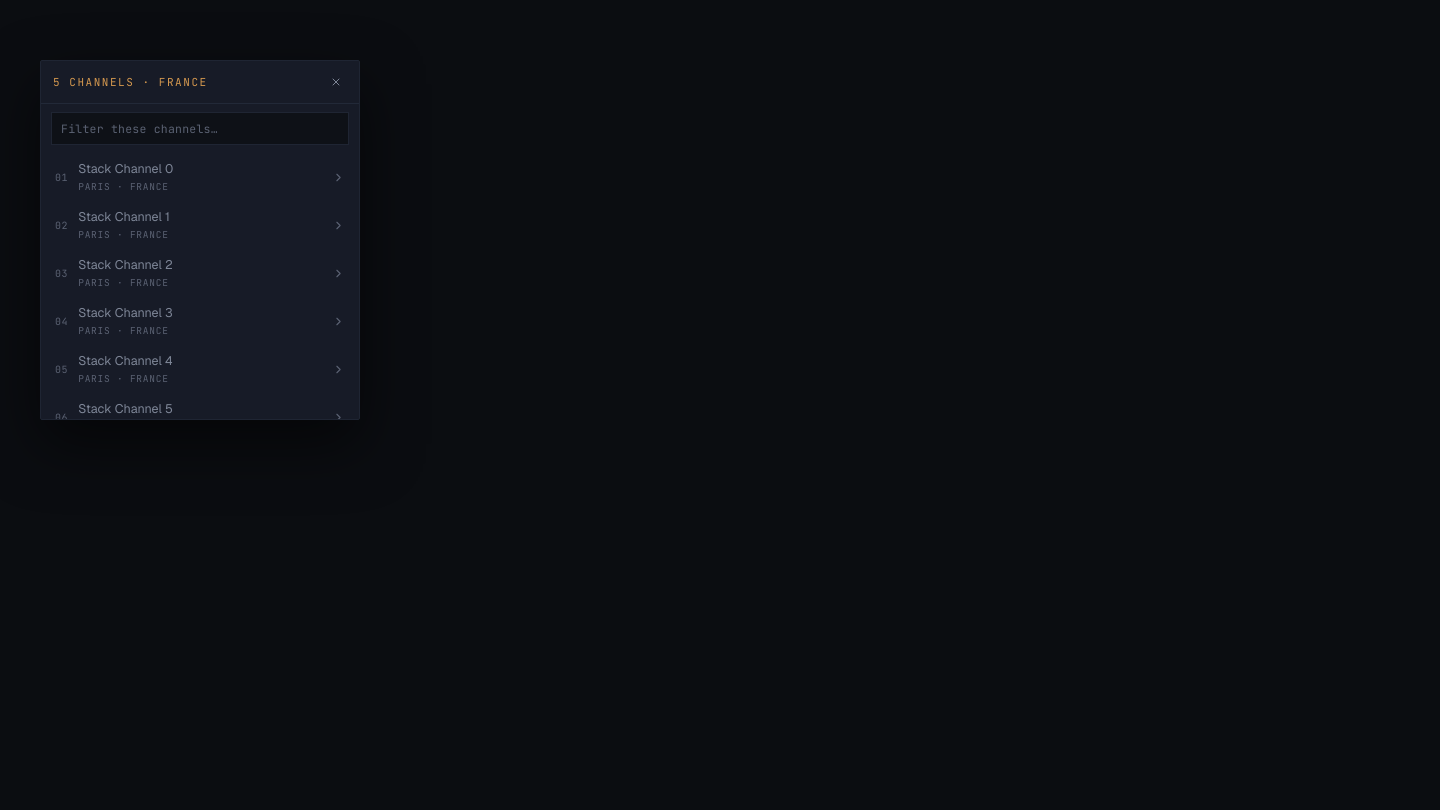
Scenario: ClusterPicker › offers a filter once the crowd is worth narrowing
Type "channel 1" into the search field with test id "input-cluster-filter" at x=200, y=129, box 51,112 -> 349,145
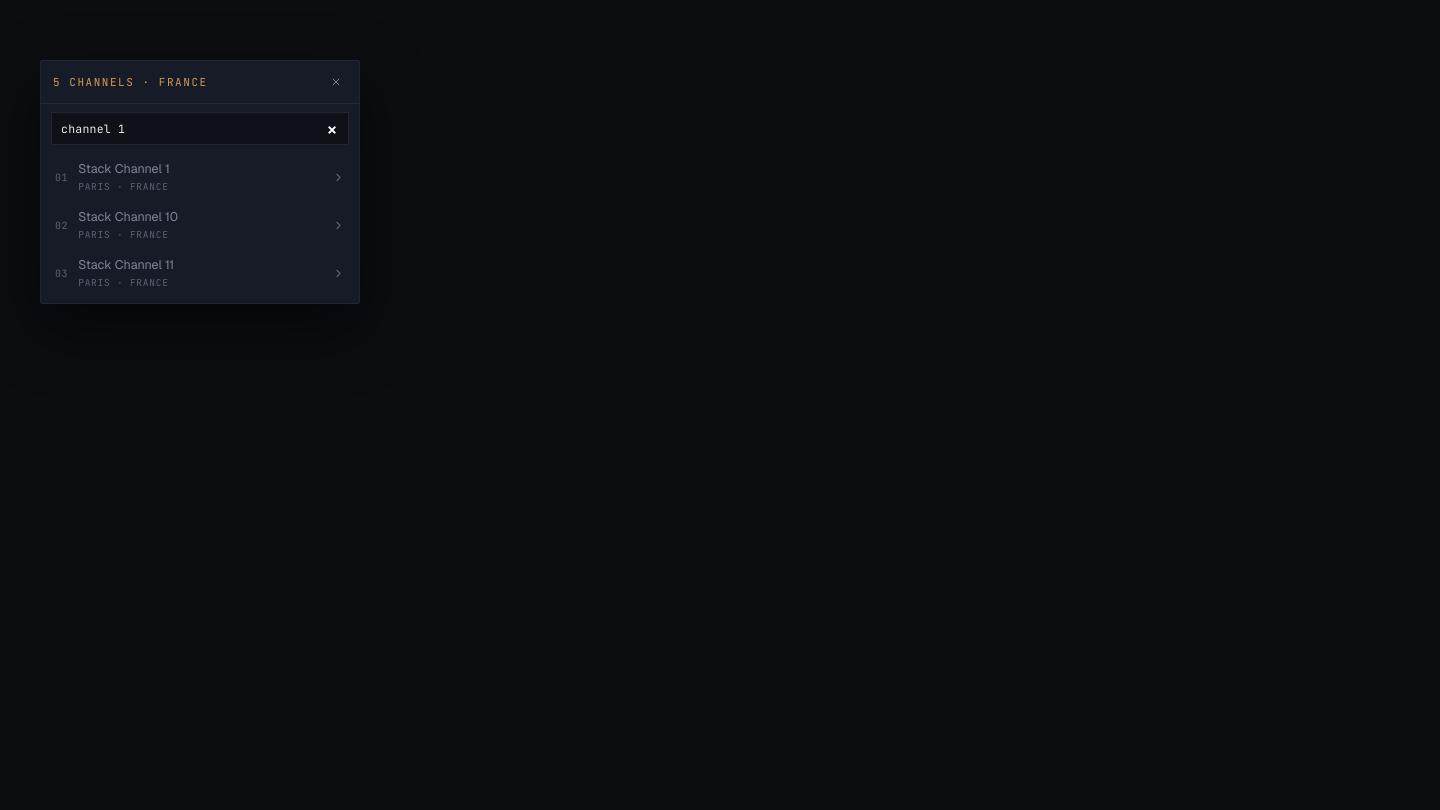
Expected: the number of buttons "01 Stack Channel 1 Paris · France" is 3, 47,153 -> 353,201; 47,201 -> 353,249; 47,249 -> 353,297
